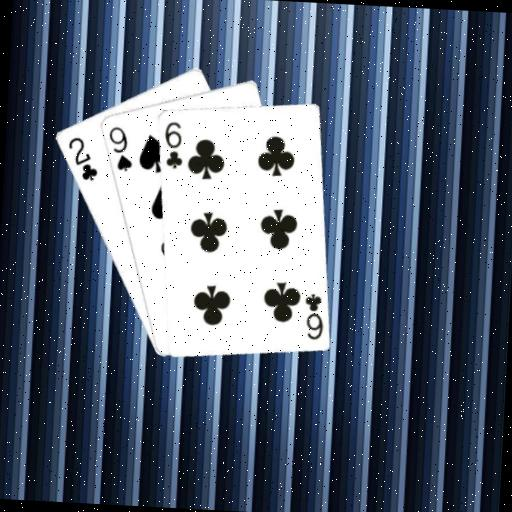2C: (63, 133, 101, 183)
6C: (299, 289, 326, 341), (160, 118, 186, 171)
9S: (104, 123, 136, 173)
